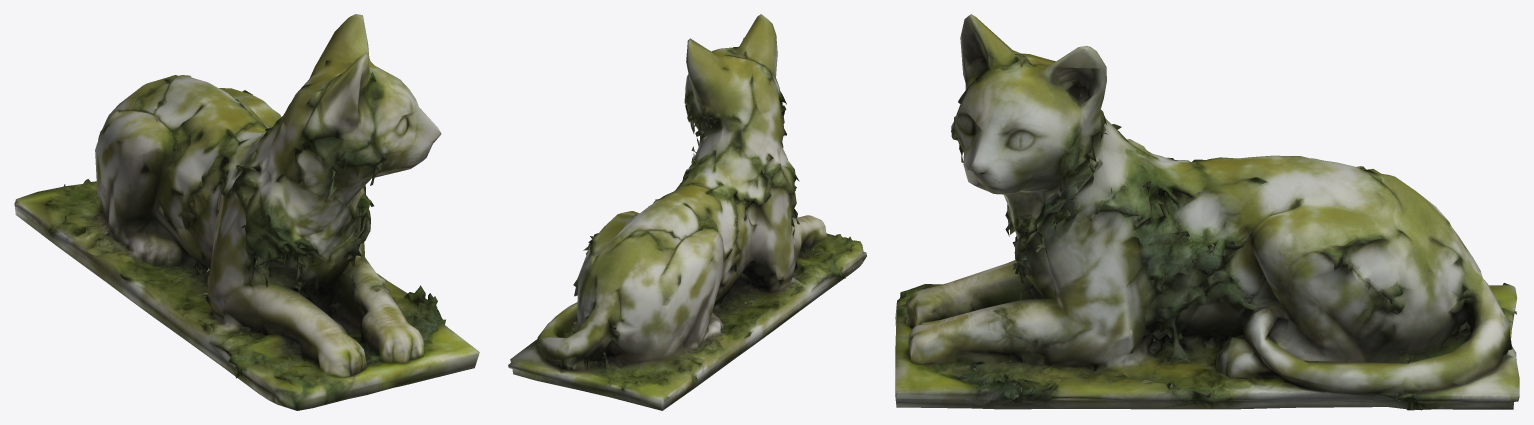
Rendered from Meshy_AI_SWAT_Cat_Tactical_Wh_0504175000_texture.fbx.
3 views of the same model, side by side, from view 1: azimuth 30°, elevation 25°; view 2: azimuth 150°, elevation 25°; view 3: azimuth 270°, elevation 25° (orthographic). The views are drawn at different scales.
Parts seen in each view (by area): view 1: Mesh_0; view 2: Mesh_0; view 3: Mesh_0.
Boxes of the visible parts, x1=… form: Mesh_0: x1=14, y1=14, x2=479, y2=410; Mesh_0: x1=508, y1=14, x2=866, y2=410; Mesh_0: x1=895, y1=14, x2=1519, y2=410.
Bounding box in the file's own units: 89.71 × 124 × 200.
Materials: 1 (1 with a texture image).
